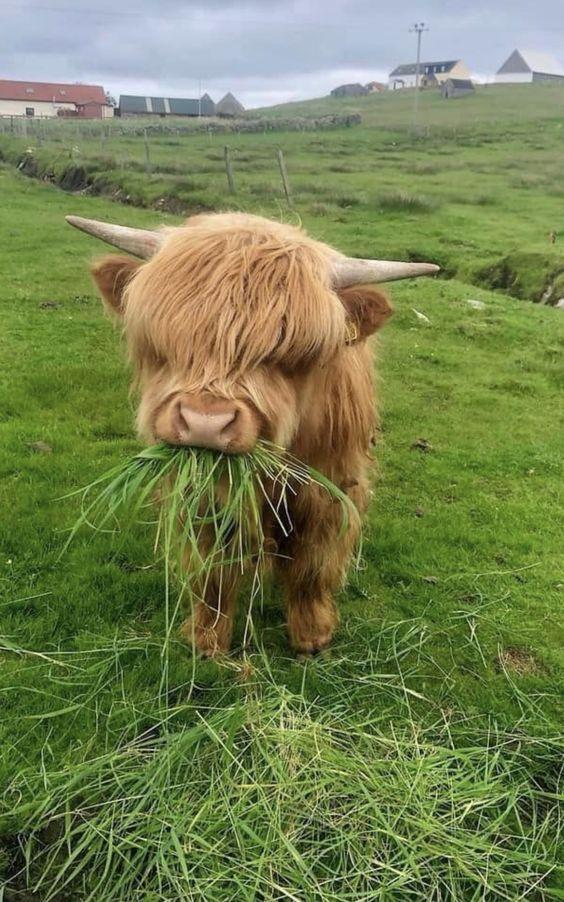cow: (25, 112, 473, 655)
